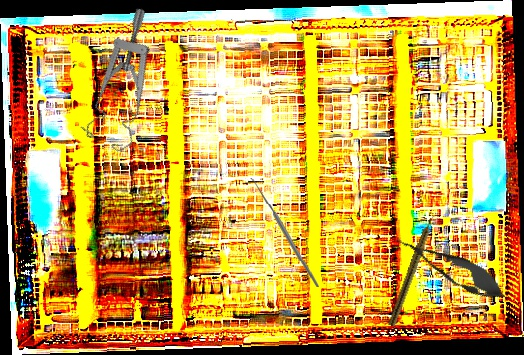Handpiece: (387, 214, 438, 328)
Hook Surgical: (245, 176, 319, 289)
Micro Scissor: (387, 225, 513, 309)
Speculum: (55, 4, 202, 162)
